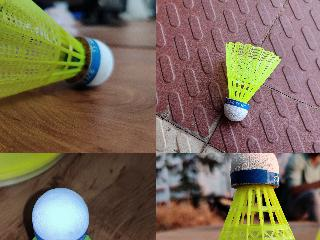shuttlecock: (0, 0, 115, 109), (197, 153, 314, 239), (13, 186, 111, 239), (223, 42, 281, 122)
